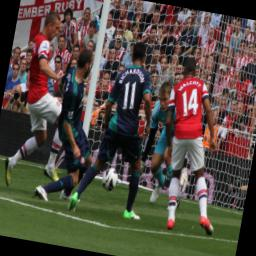football: (100, 166, 120, 192)
